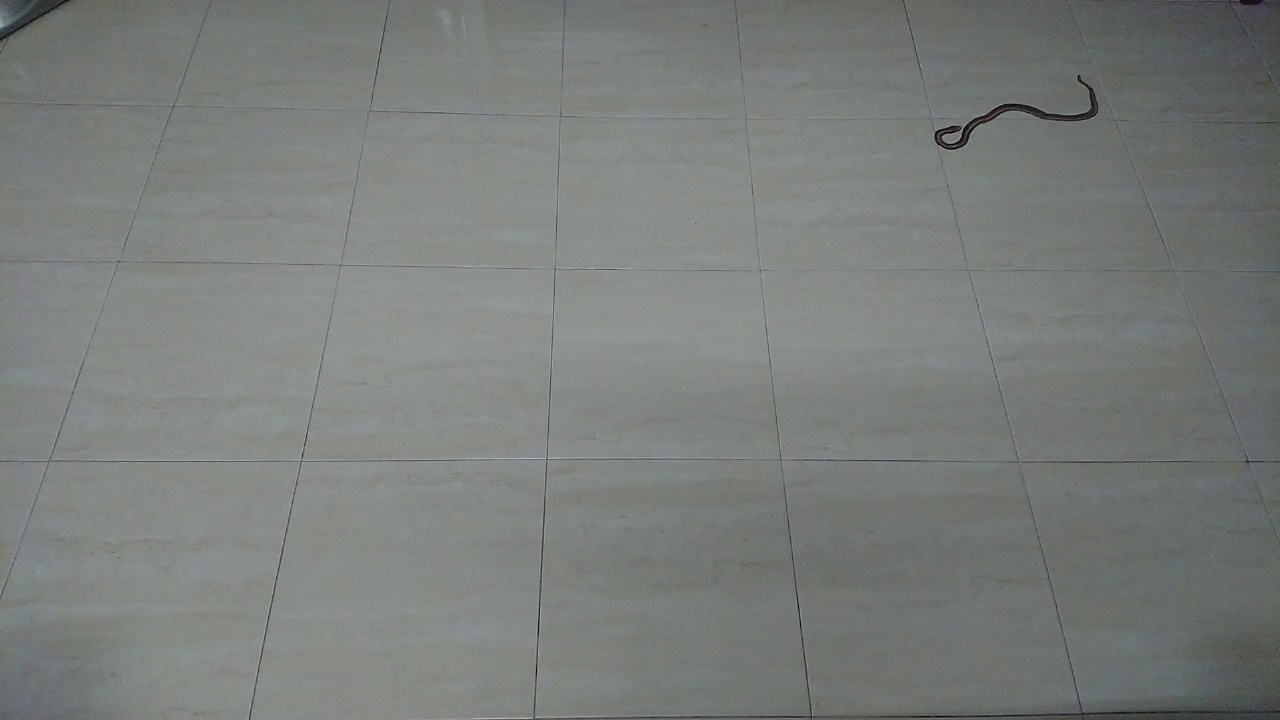snake: (921, 63, 1109, 166)
